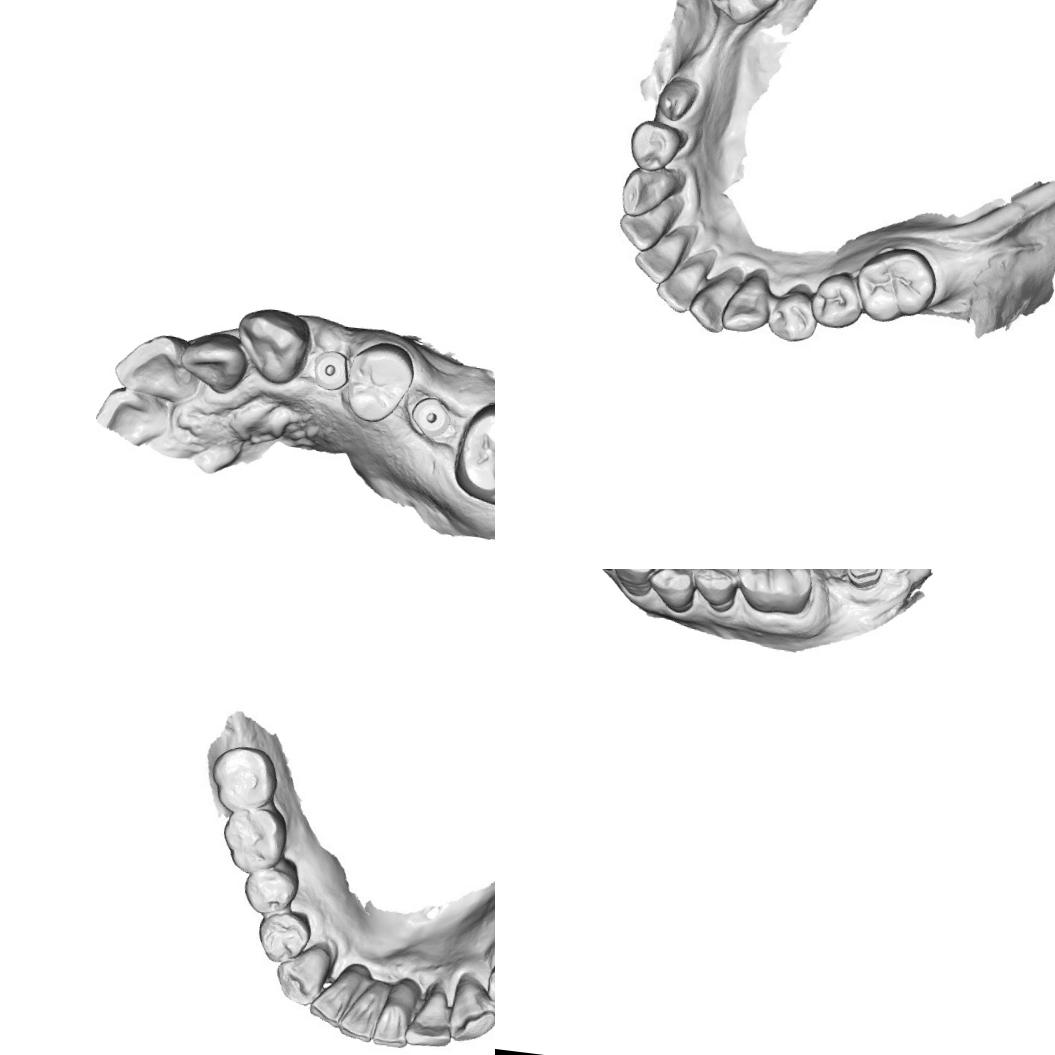canine: (232, 305, 313, 390), (270, 940, 332, 1008), (717, 267, 771, 343), (620, 164, 685, 216), (448, 974, 495, 1042), (605, 569, 661, 599)
implant: (404, 390, 454, 442), (308, 348, 350, 395)
implant_minus: (843, 569, 885, 592)
incisor: (112, 328, 195, 406), (181, 328, 246, 398), (614, 194, 680, 257), (630, 228, 694, 290), (684, 272, 741, 338), (653, 250, 706, 318), (306, 964, 363, 1026), (338, 978, 388, 1046), (372, 978, 419, 1050), (411, 980, 458, 1050)
molar: (853, 242, 942, 330), (204, 741, 278, 818), (450, 395, 495, 513), (219, 804, 288, 874), (730, 569, 819, 618), (698, 0, 790, 30)
premolar: (338, 336, 418, 428), (623, 115, 695, 174), (810, 268, 867, 332), (768, 283, 825, 347), (253, 910, 312, 964), (247, 862, 298, 916), (687, 569, 743, 615), (645, 569, 699, 615)
